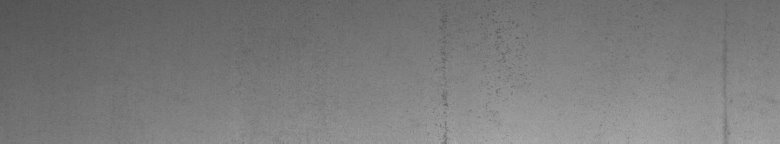ib: (426, 15, 519, 136)
